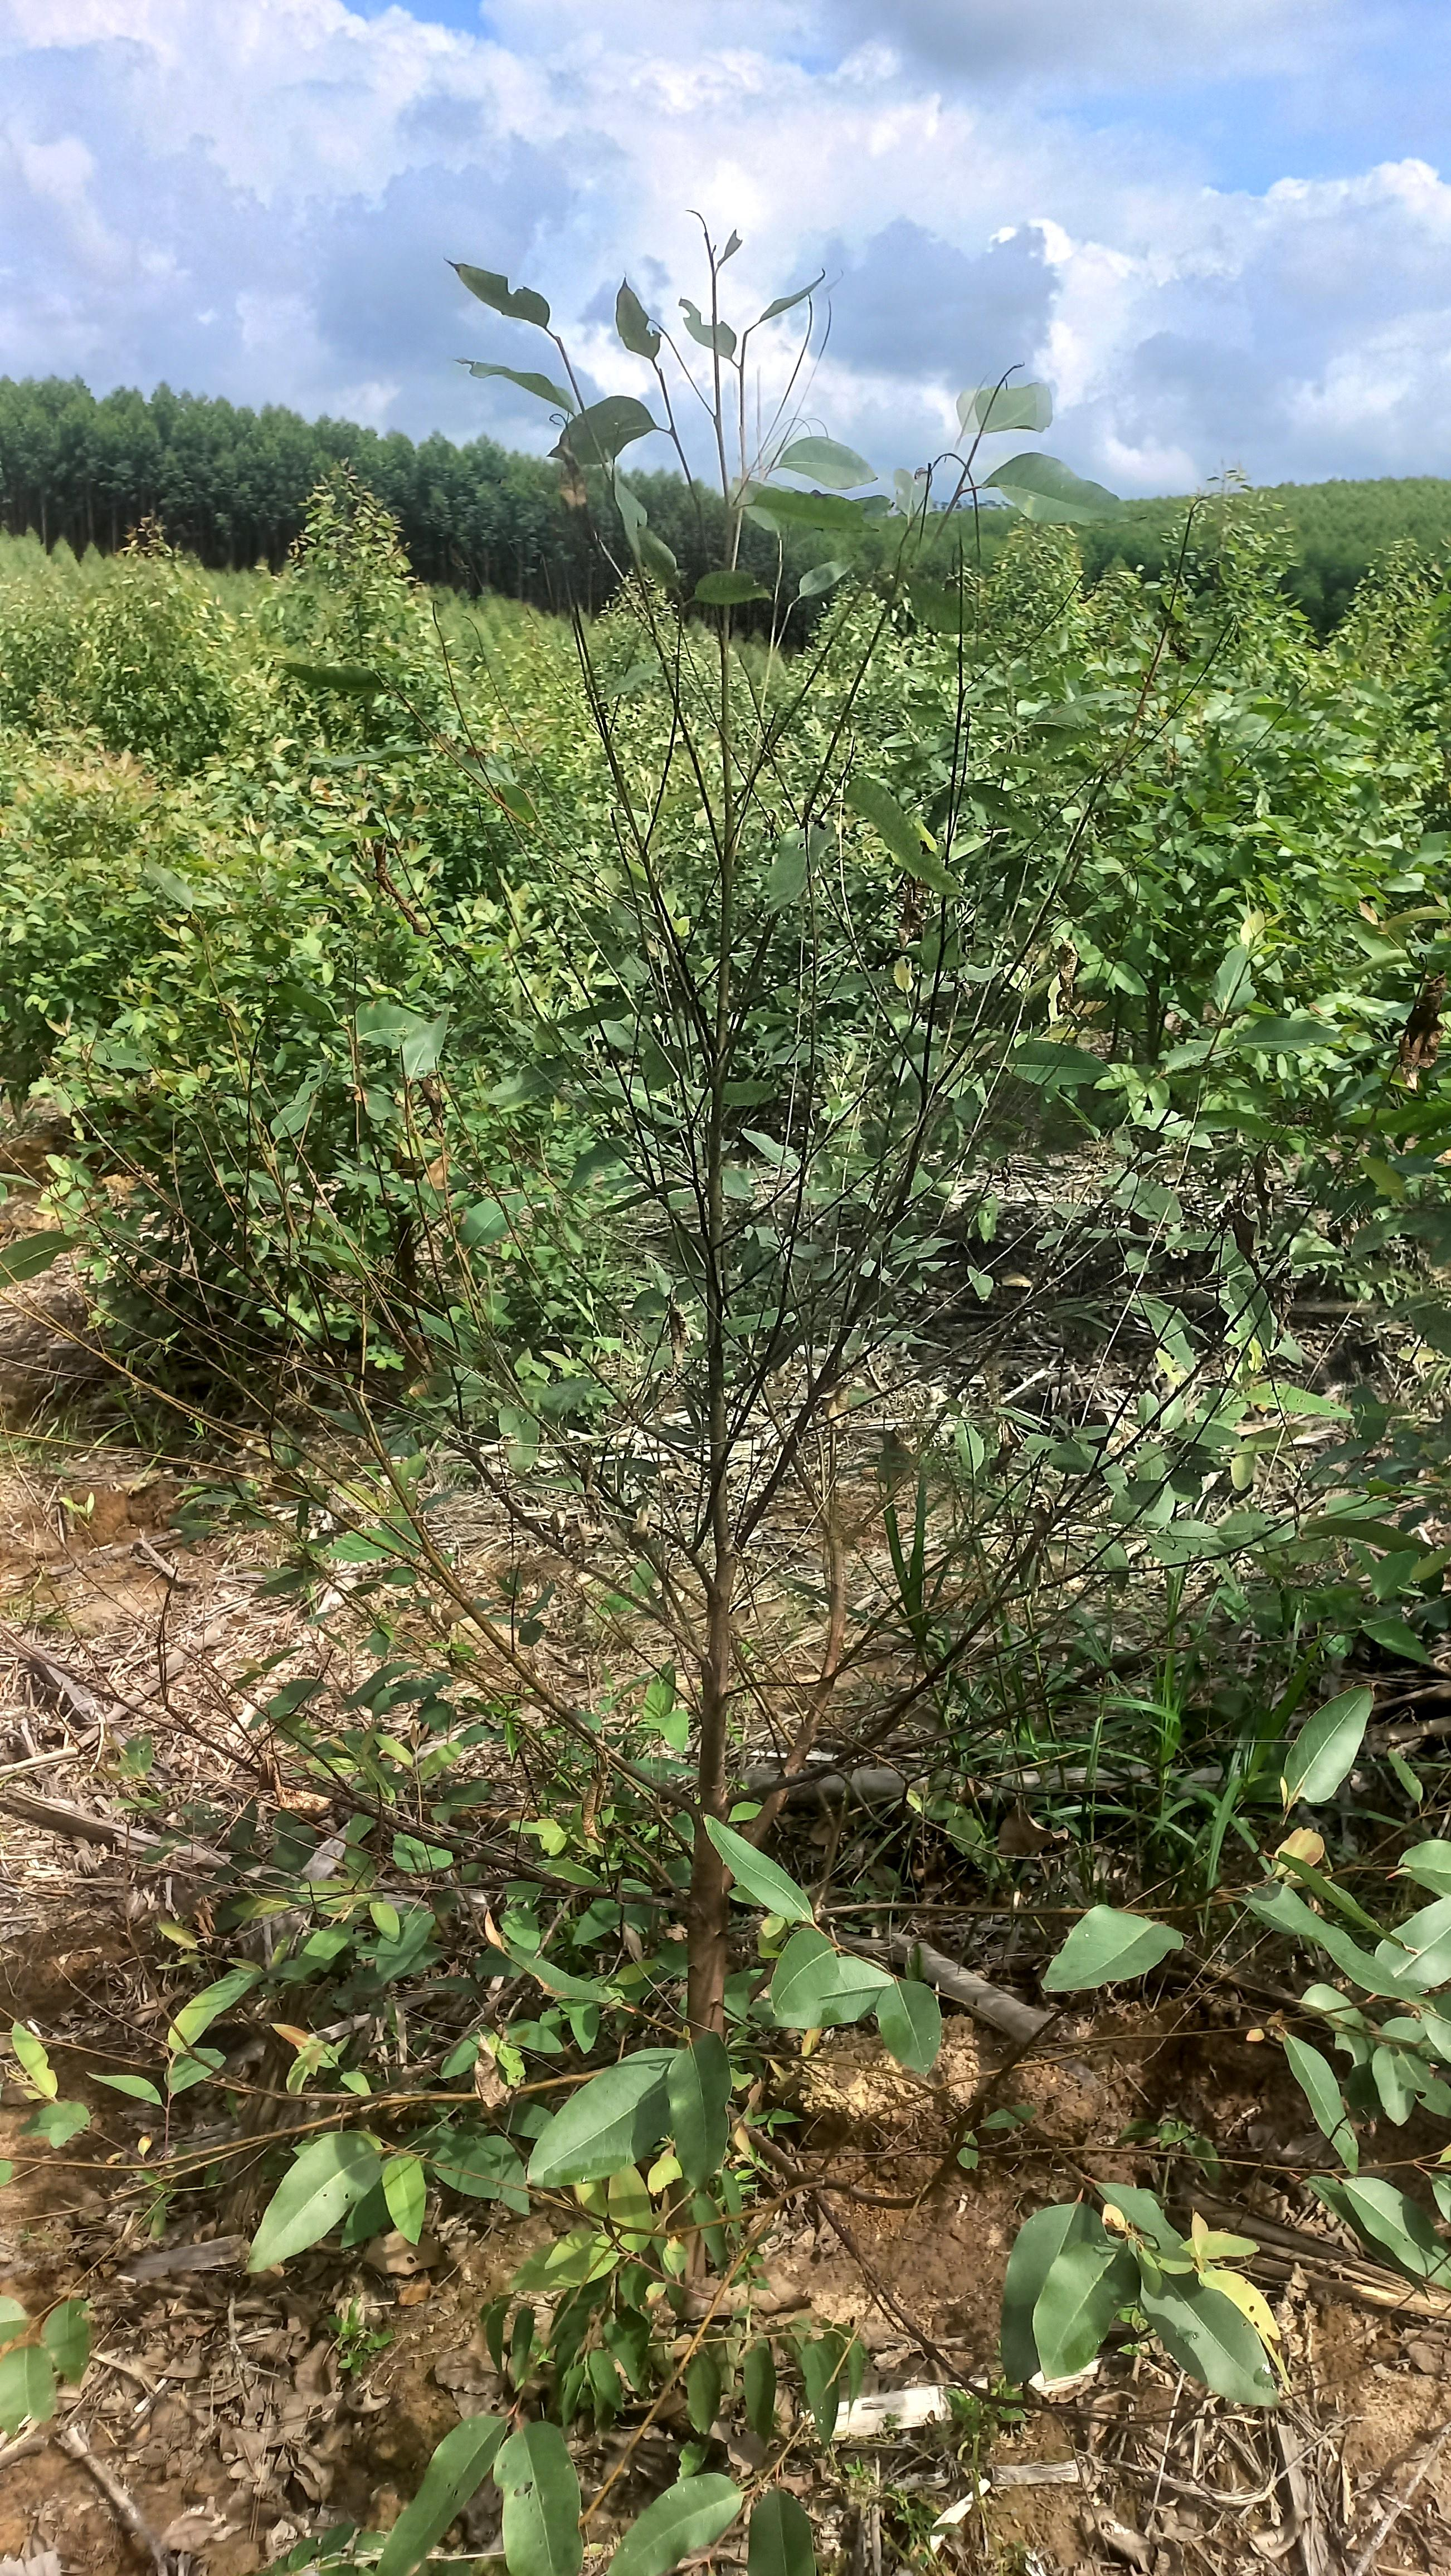Helopeltis-Withered Sprout: (1386, 975, 1446, 1113)
